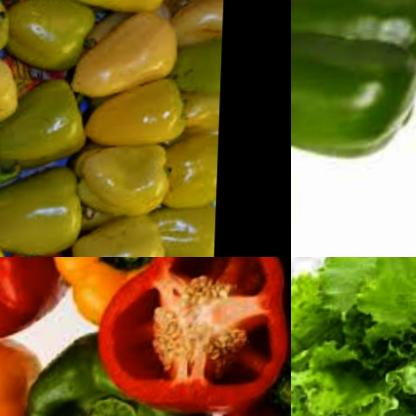bell pepper: (93, 257, 291, 416), (291, 0, 416, 213), (150, 0, 226, 257), (24, 332, 218, 416), (47, 257, 215, 332), (211, 283, 291, 416), (70, 13, 179, 107), (0, 75, 98, 179), (0, 160, 96, 257), (83, 80, 187, 160), (74, 141, 175, 221), (3, 0, 100, 79), (0, 257, 68, 345), (0, 328, 54, 416), (67, 217, 167, 257), (67, 0, 185, 25), (0, 48, 25, 134)
salad: (291, 257, 416, 416)
